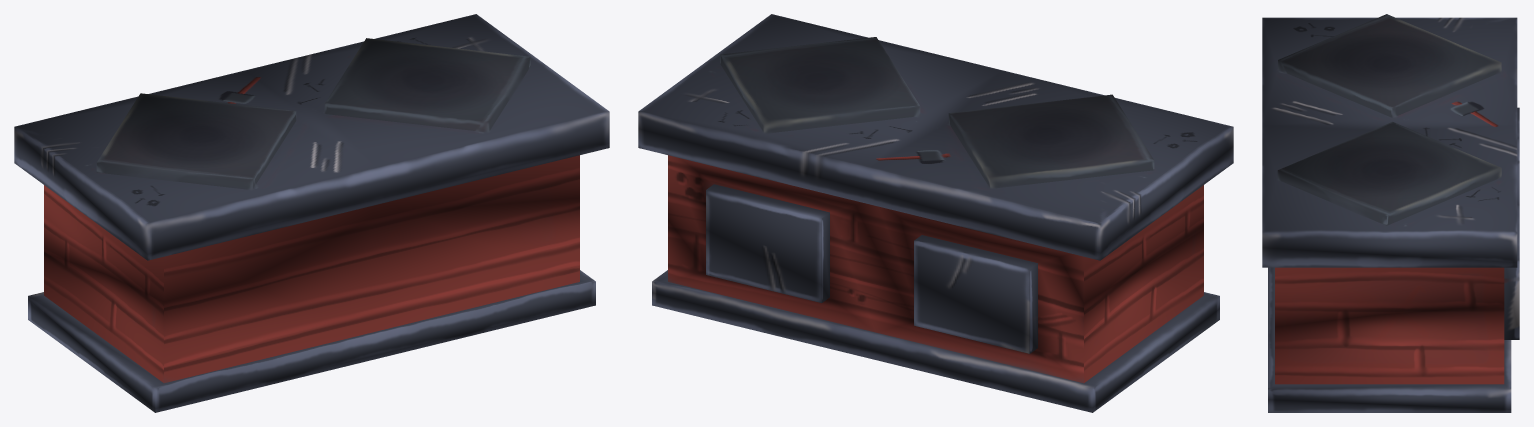
The model's file is BaseCrafter.fbx.
The picture shows the model from 3 angles, left to right: view 1: azimuth 30°, elevation 25°; view 2: azimuth 150°, elevation 25°; view 3: azimuth 270°, elevation 25°; orthographic projection. The views are drawn at different scales.
Visible parts, largest first — view 1: BaseCraftingTable; view 2: BaseCraftingTable; view 3: BaseCraftingTable.
Boxes of the visible parts, left/top/right/bottom form: BaseCraftingTable: left=14, top=14, right=609, bottom=412; BaseCraftingTable: left=638, top=14, right=1233, bottom=412; BaseCraftingTable: left=1262, top=14, right=1519, bottom=412.
Bounding box in the file's own units: 400 × 169 × 202.
